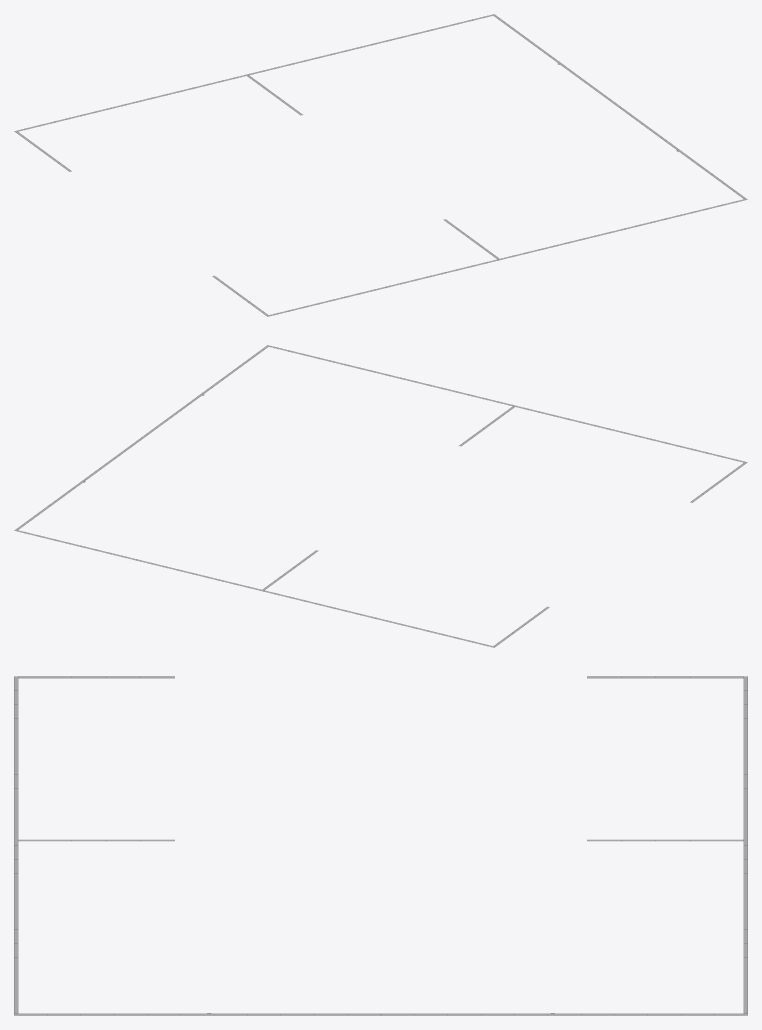
The model's file is service-finish.glb.
3 renders of one model, top to bottom at view 1: azimuth 30°, elevation 25°; view 2: azimuth 150°, elevation 25°; view 3: azimuth 270°, elevation 25°, orthographic. The views are drawn at different scales.
Visible parts, largest first — view 1: header_south, header_north, wall_channel; view 2: header_north, header_south, wall_channel; view 3: wall_channel, header_north, header_south.
Boxes of the visible parts, box(x1,y1,x2,y2) form: header_south: box(266, 199, 744, 316); header_north: box(14, 14, 492, 132); wall_channel: box(492, 14, 747, 200); header_north: box(17, 530, 495, 647); header_south: box(269, 345, 747, 463); wall_channel: box(14, 345, 269, 531); wall_channel: box(14, 1013, 747, 1015); header_north: box(743, 676, 747, 1013); header_south: box(14, 676, 18, 1013).
Bounding box in the file's own units: 23.38 × 0 × 21.38.
2 materials, 1 textured.
